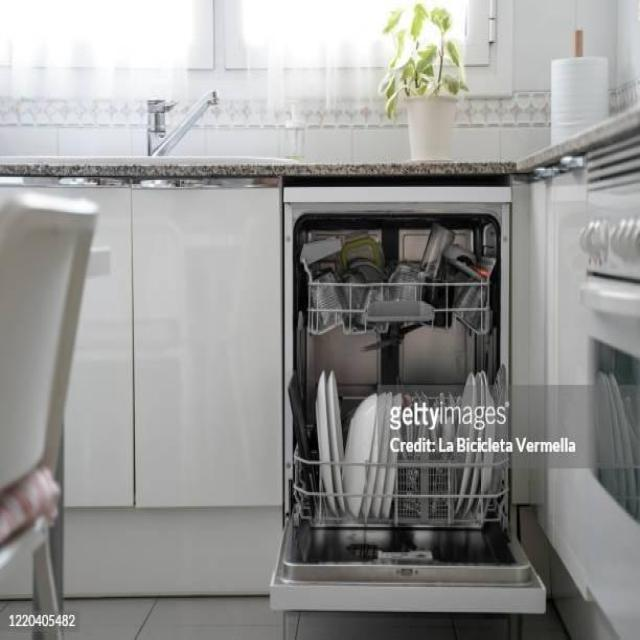dishwasher: (273, 175, 547, 622)
